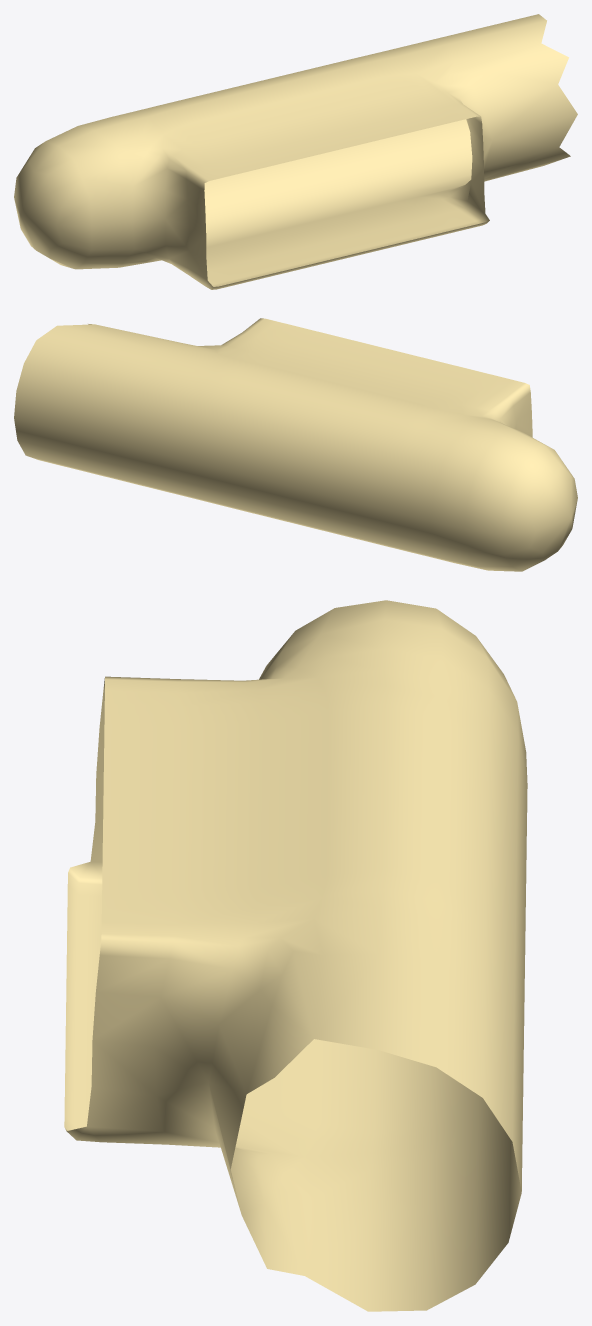
File: Key 4.fbx
3 views of the same model, one above another, from view 1: azimuth 30°, elevation 25°; view 2: azimuth 150°, elevation 25°; view 3: azimuth 270°, elevation 25° (orthographic). The views are drawn at different scales.
Parts seen in each view (by area): view 1: Cylinder; view 2: Cylinder; view 3: Cylinder.
Boxes of the visible parts, left/top/right/bottom form: Cylinder: left=14, top=14, right=577, bottom=289; Cylinder: left=14, top=318, right=577, bottom=571; Cylinder: left=64, top=600, right=527, bottom=1311.
Bounding box in the file's own units: 31.75 × 7.66 × 12.18.
